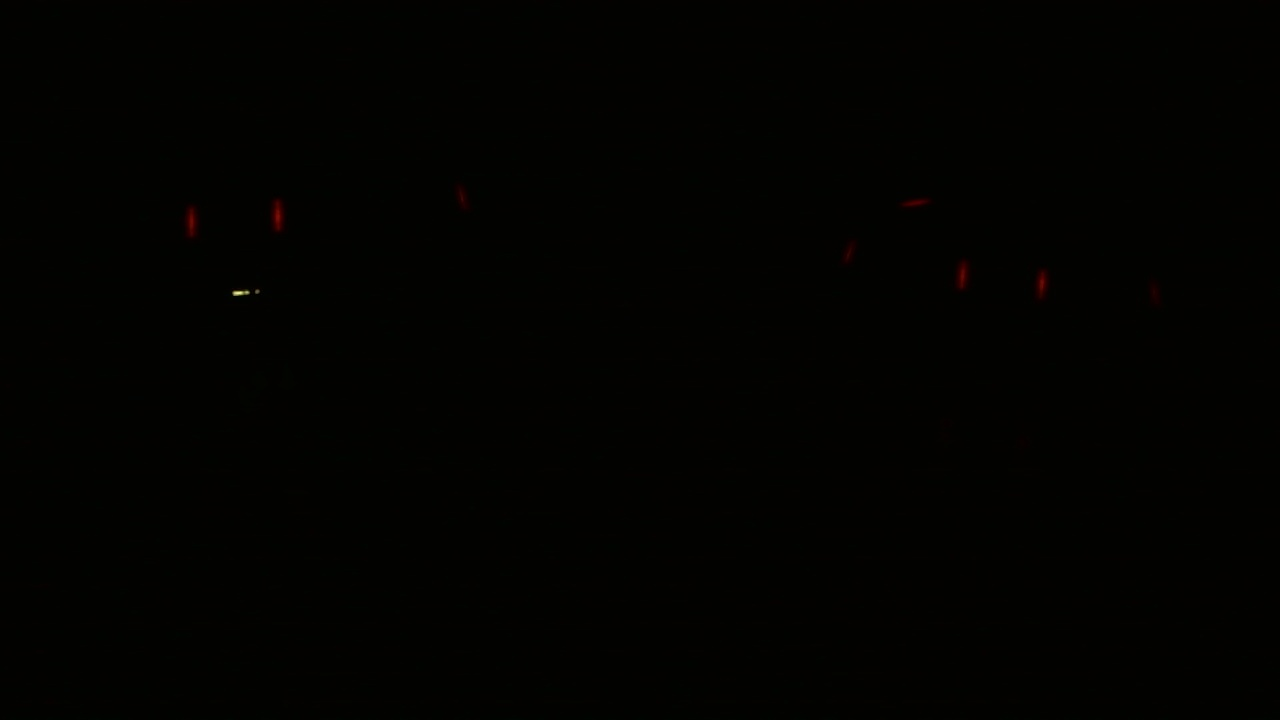pair1: (947, 254, 1053, 301), (181, 197, 286, 237)
